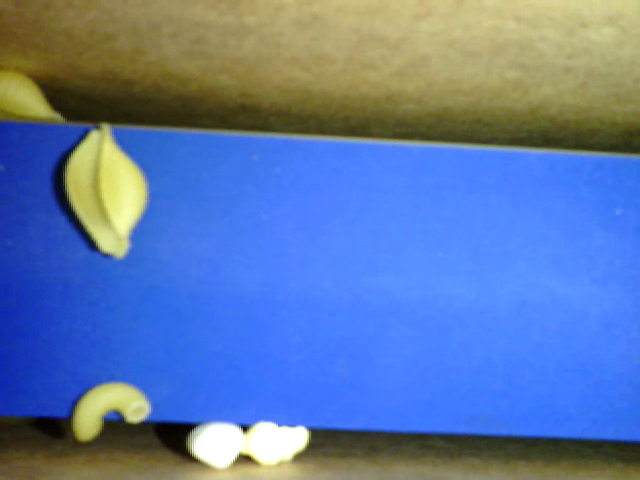elbow: (71, 380, 151, 441)
shell: (61, 121, 148, 258), (3, 68, 69, 125)
